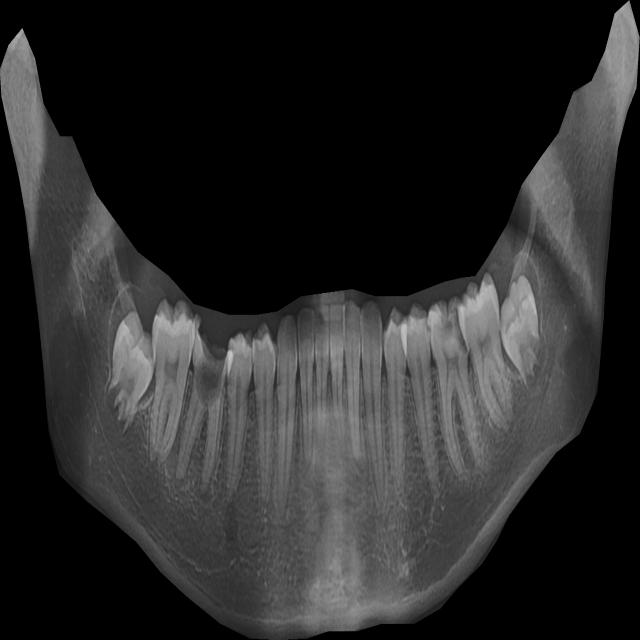mandibula: (0, 0, 640, 640)
